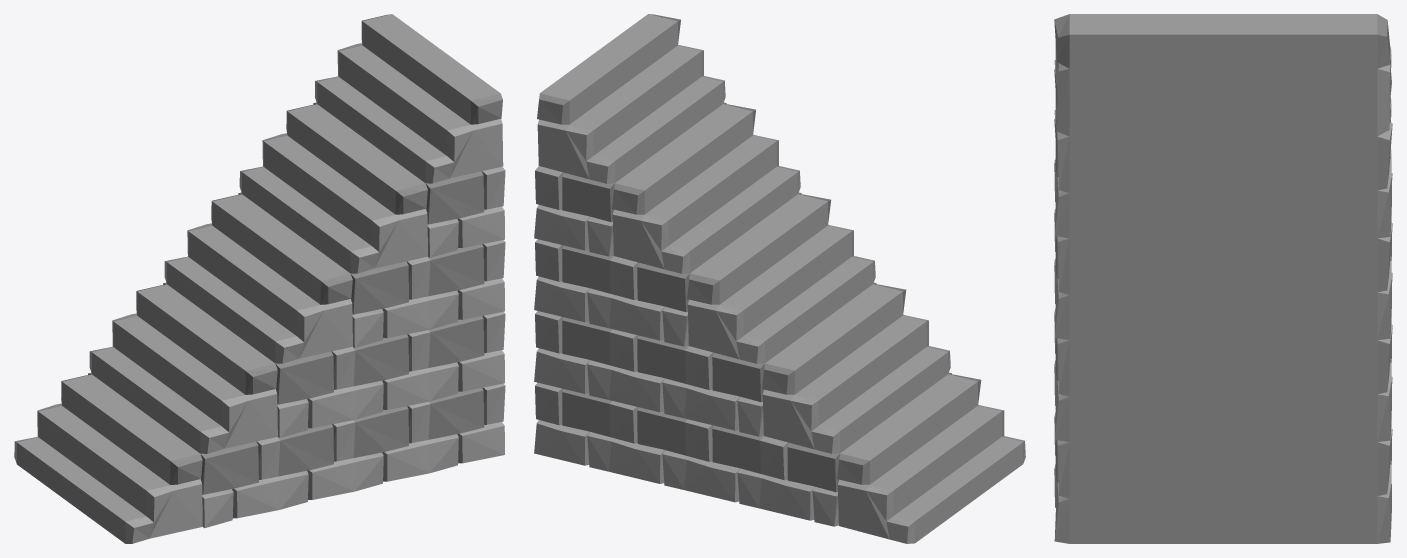
The model's file is _STAIRS_FULL1.fbx.
3 renders of one model, left to right at view 1: azimuth 30°, elevation 25°; view 2: azimuth 150°, elevation 25°; view 3: azimuth 270°, elevation 25°, orthographic. The views are drawn at different scales.
Visible parts, largest first — view 1: STAIRS_1_03, STAIRS_1_02, STAIRS_1_01, STAIRS_1_04, STAIRS_1_05, STAIRS_2_01, STAIRS_2_05, STAIRS_2_09, STAIRS_2_10, STAIRS_2_06, STAIRS_2_03, STAIRS_2_02 (+3 smaller); view 2: STAIRS_1_01, STAIRS_1_04, STAIRS_1_03, STAIRS_1_05, STAIRS_1_02, STAIRS_2_09, STAIRS_2_10, STAIRS_2_05, STAIRS_2_01, STAIRS_2_02, STAIRS_2_06, STAIRS_2_08 (+3 smaller); view 3: STAIRS_1_05, STAIRS_2_10, STAIRS_2_08, STAIRS_2_04, STAIRS_2_07.
Boxes of the visible parts, x1,y1,x2,y2 form: STAIRS_1_03: (164,194,352,363); STAIRS_1_02: (89,284,277,453); STAIRS_1_01: (14,374,202,543); STAIRS_1_04: (239,104,427,273); STAIRS_1_05: (315,14,503,183); STAIRS_2_01: (88,373,280,528); STAIRS_2_05: (163,282,355,437); STAIRS_2_09: (238,192,430,347); STAIRS_2_10: (313,102,505,257); STAIRS_2_06: (352,330,430,419); STAIRS_2_03: (352,402,430,491); STAIRS_2_02: (277,420,355,509); STAIRS_1_01: (837,374,1025,543); STAIRS_1_04: (612,104,800,273); STAIRS_1_03: (687,194,875,363); STAIRS_1_05: (537,14,725,183); STAIRS_1_02: (762,284,950,453); STAIRS_2_09: (609,192,801,346); STAIRS_2_10: (534,102,726,256); STAIRS_2_05: (684,282,876,436); STAIRS_2_01: (759,372,951,526); STAIRS_2_02: (684,419,763,508); STAIRS_2_06: (609,329,688,418); STAIRS_2_08: (534,239,613,328); STAIRS_1_05: (1054,14,1391,136); STAIRS_2_10: (1054,89,1392,238); STAIRS_2_08: (1054,225,1392,340); STAIRS_2_04: (1054,428,1392,543); STAIRS_2_07: (1054,326,1392,441).
Size of the model in its own units: 401 by 365 by 220.
